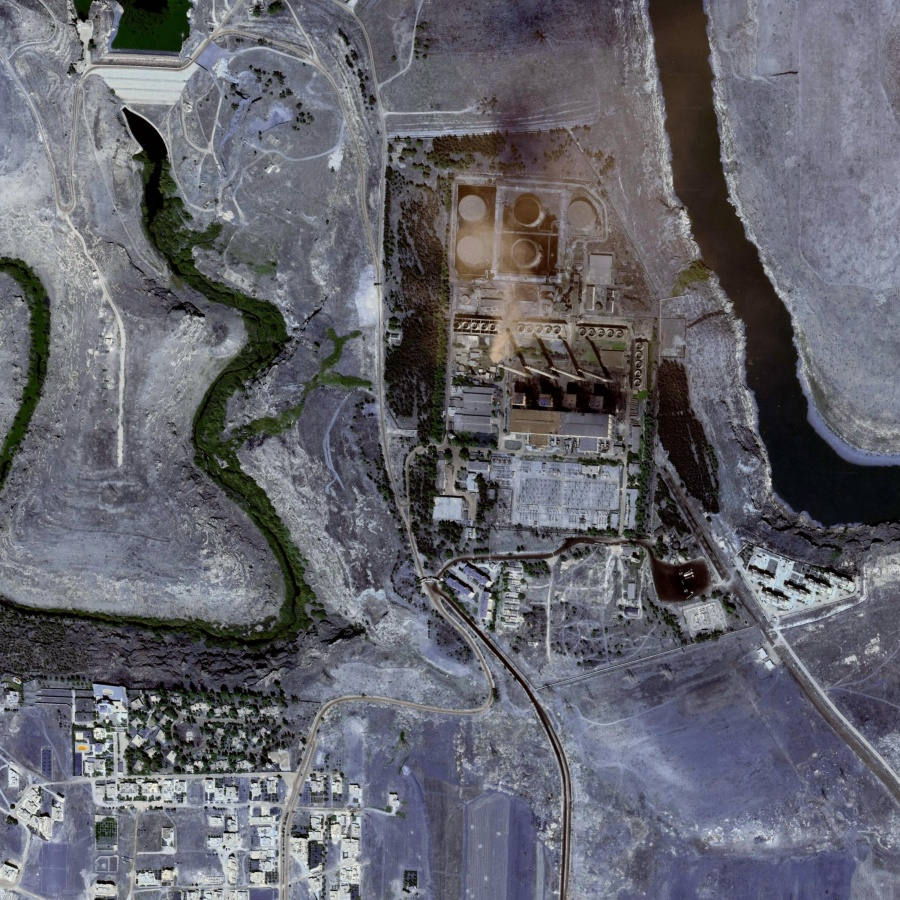PowerPlant: (394, 131, 772, 644)
